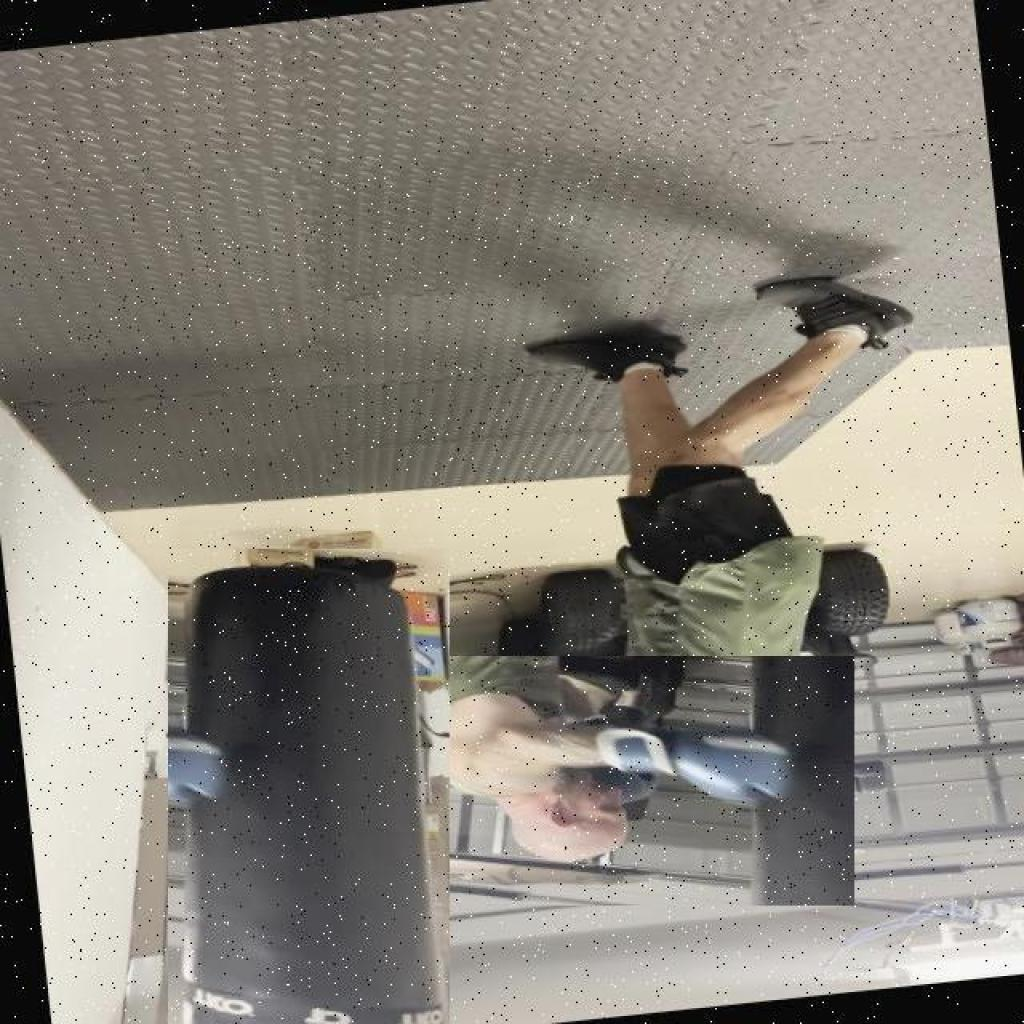bag: (168, 549, 450, 1024)
hook: (330, 656, 854, 906)
